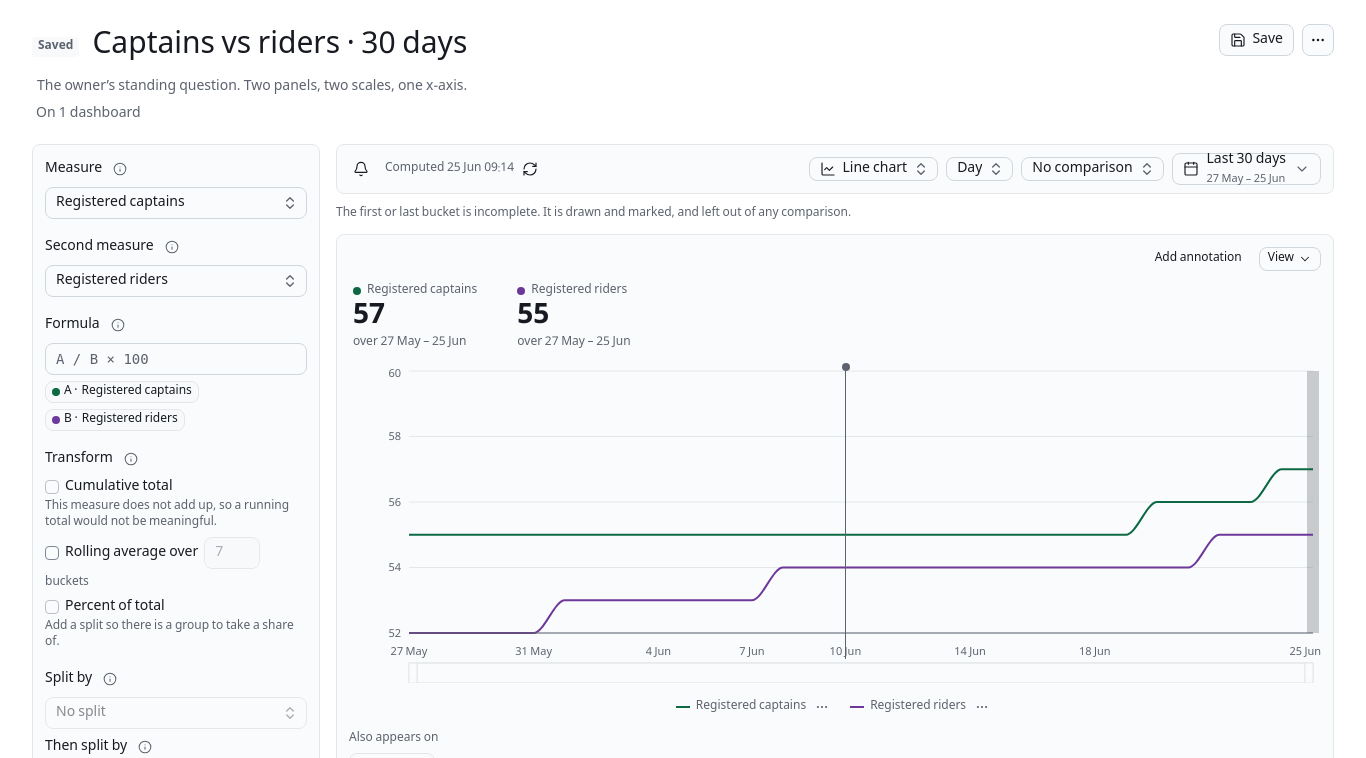
Scenario: §A5 — the badge says whether what is on screen has been written down › reads Saved on a clean record, and Draft the moment the title is edited
This screenshot has width=1366, height=758.
Check: the text "Saved" is shown, box x1=32 y1=37 x2=79 y2=57
Type "!" into the field named "Report name" at (647, 47), box x1=87 y1=24 x2=1207 y2=70
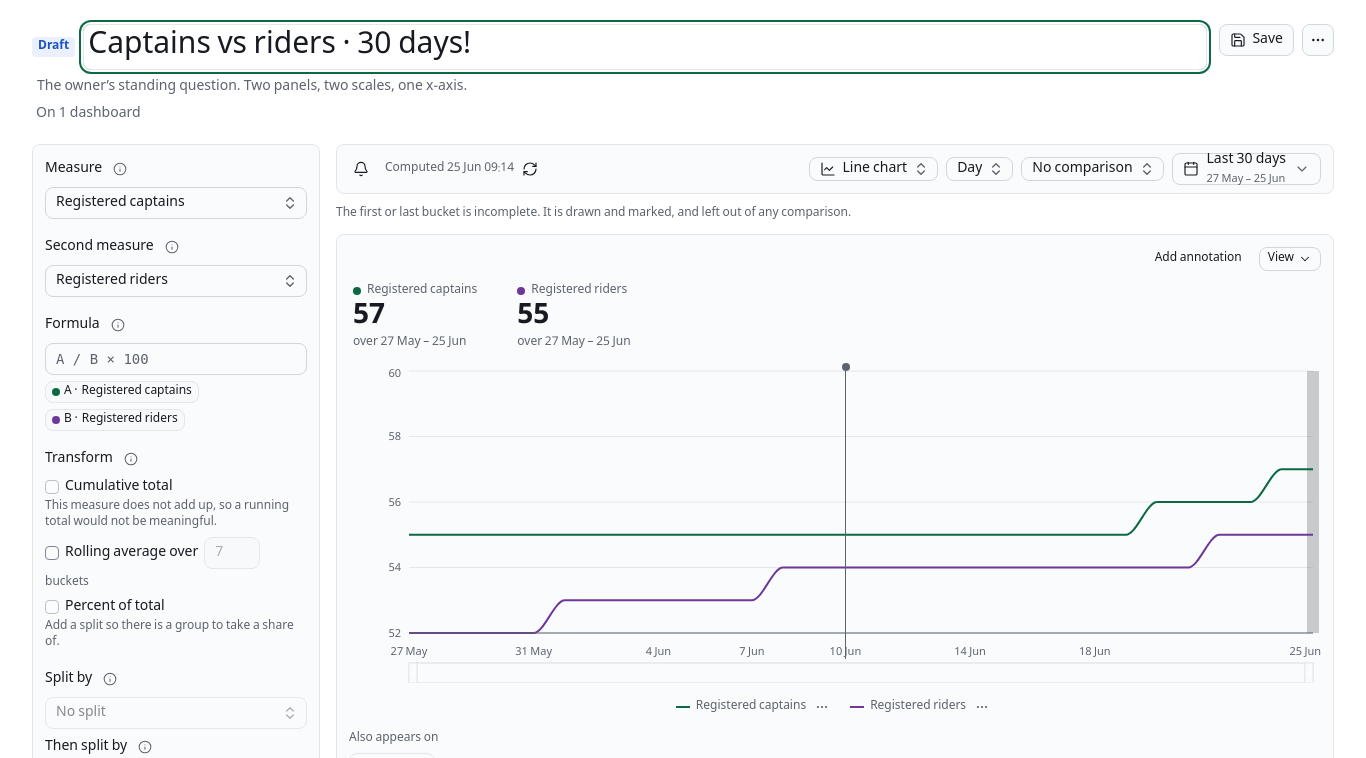
Check: the text "Draft" is shown, box x1=32 y1=37 x2=75 y2=57
Check: the text "Saved" is gone
